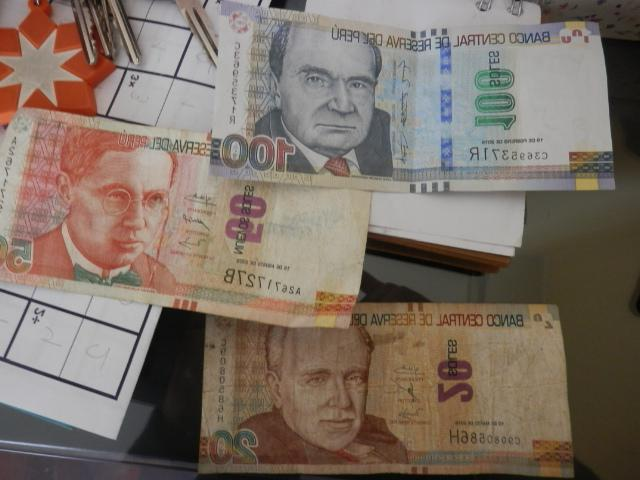B100: (219, 5, 615, 191)
B20: (202, 310, 575, 478)
B50: (1, 172, 370, 327)
